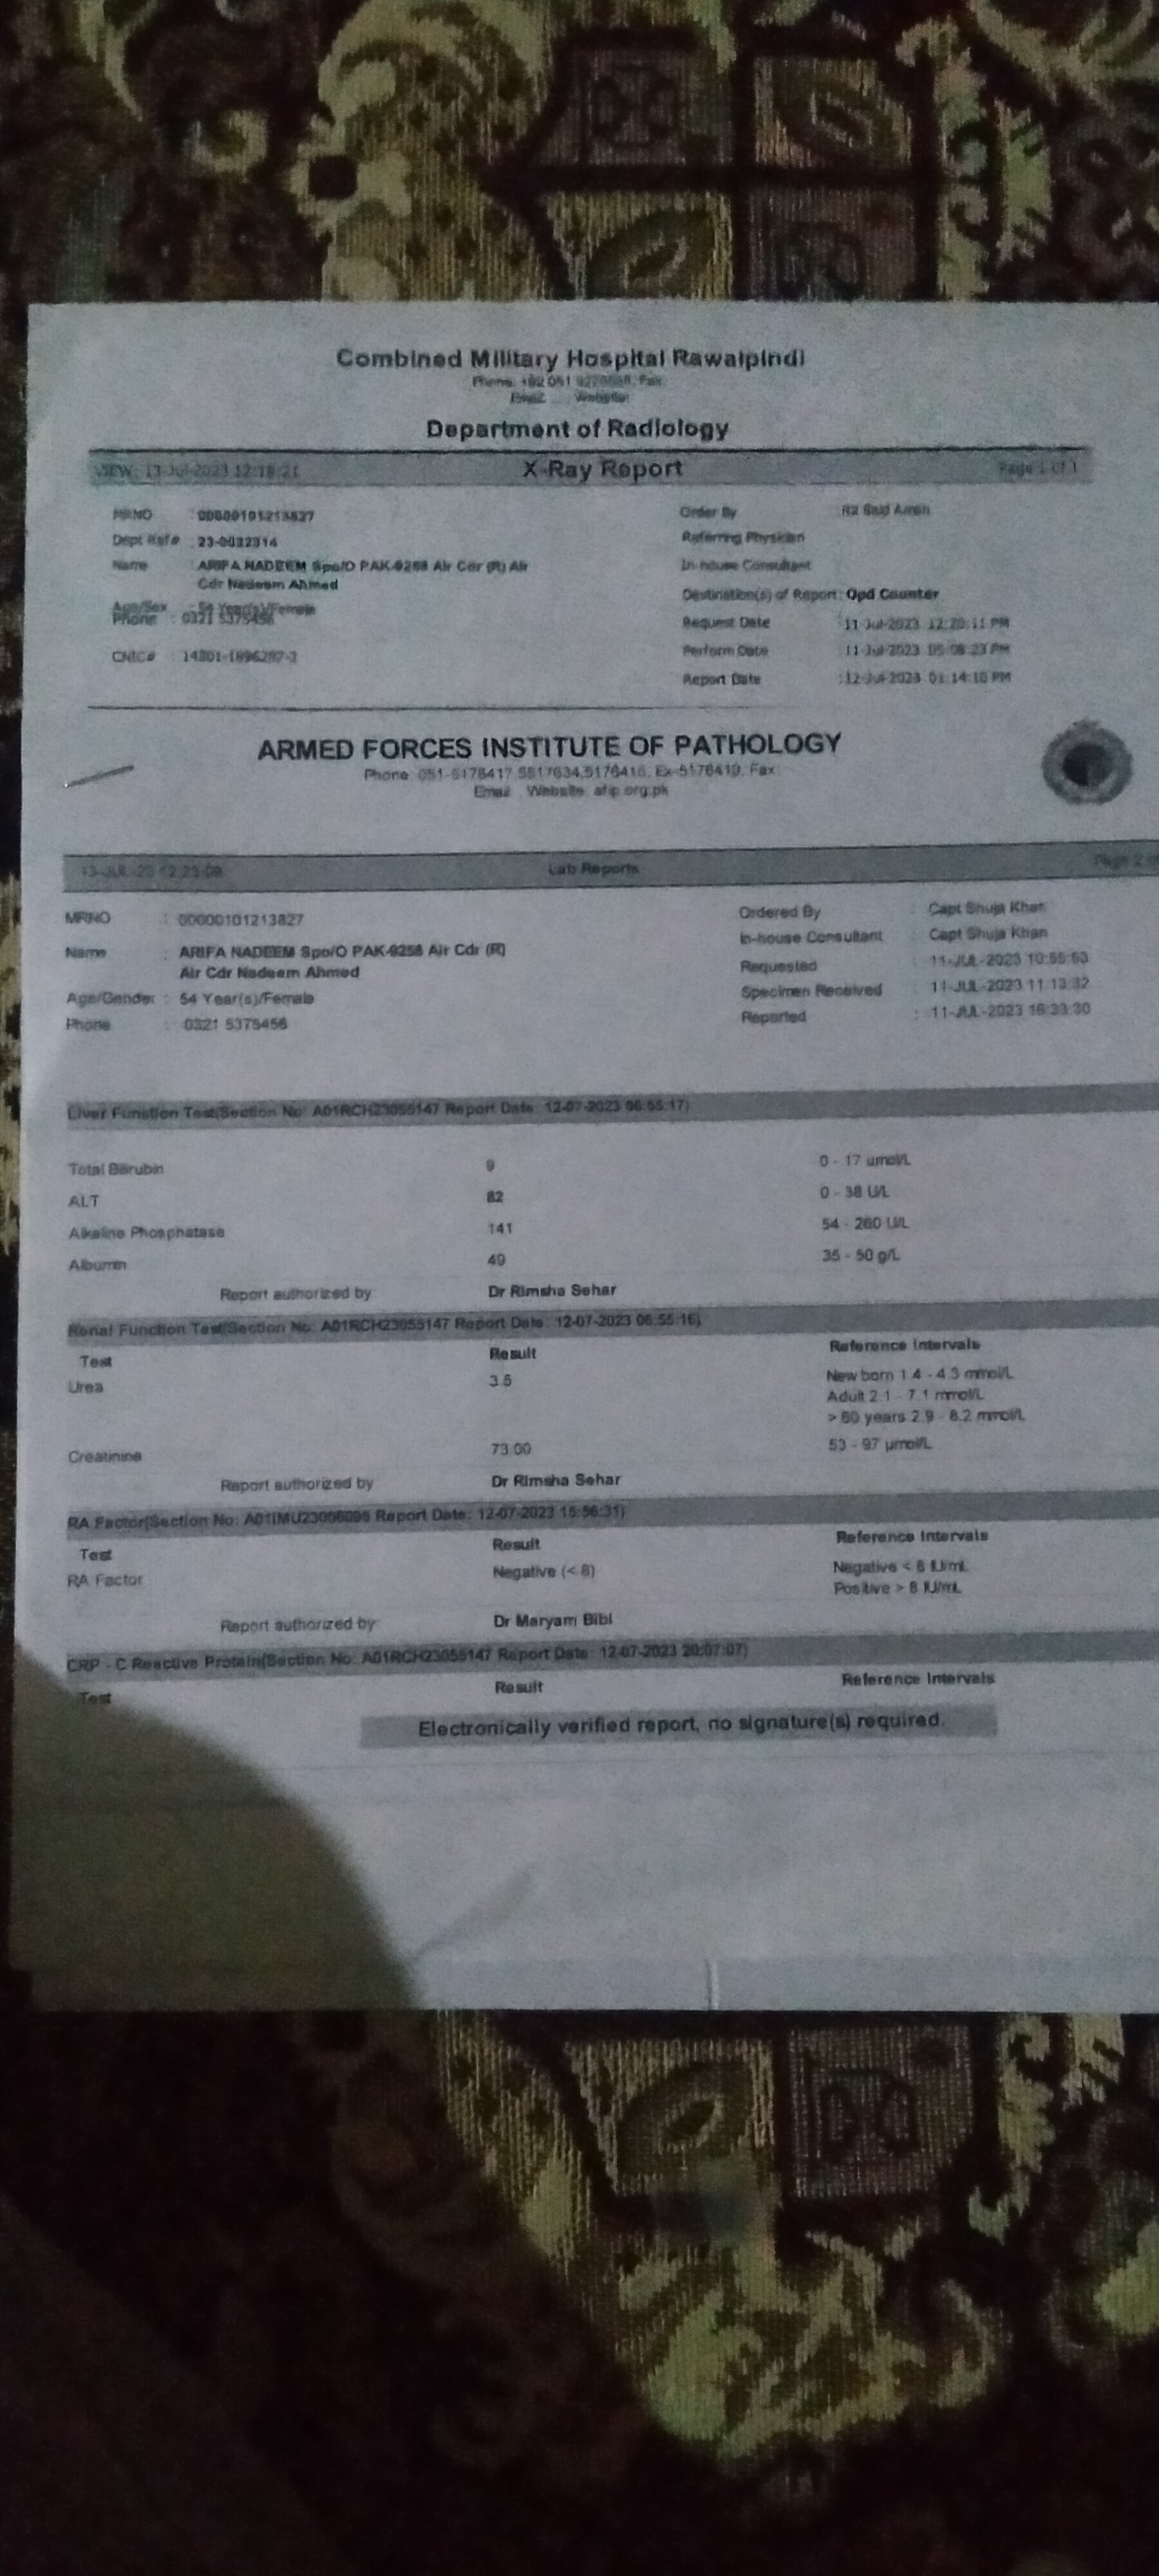report: (39, 1088, 1157, 1774)
